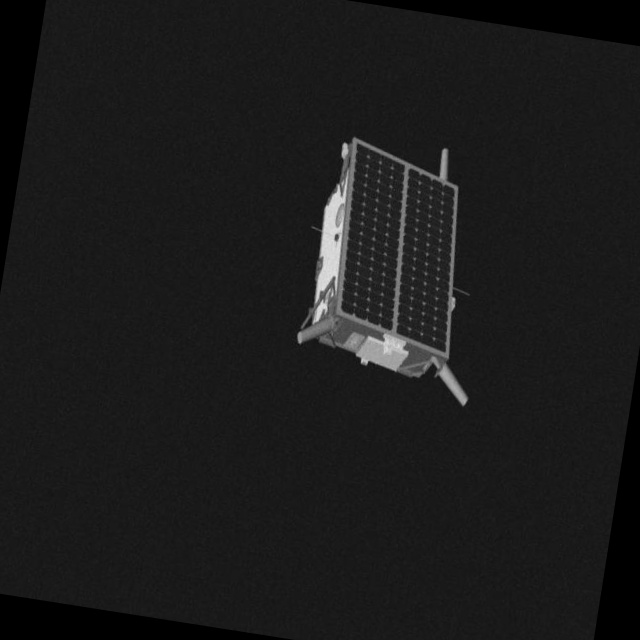medium_debris: (275, 121, 516, 421)
